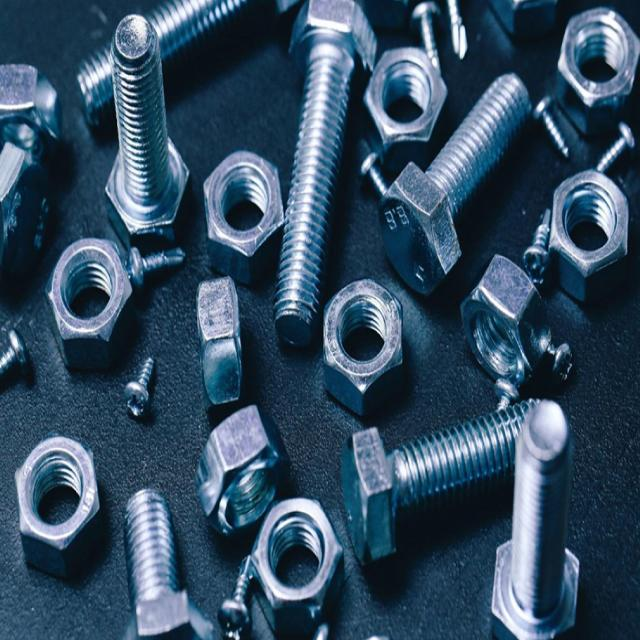Logam: (320, 402, 574, 557), (494, 384, 616, 640), (443, 56, 551, 314), (279, 0, 355, 353), (92, 12, 196, 245), (33, 219, 141, 367), (241, 503, 354, 637), (10, 418, 109, 567), (115, 479, 206, 640), (200, 129, 290, 286), (546, 165, 633, 319), (199, 405, 300, 529), (182, 274, 265, 424), (466, 244, 559, 374), (364, 29, 448, 161), (556, 9, 640, 137), (8, 48, 65, 232), (112, 345, 167, 423), (3, 327, 26, 374)
